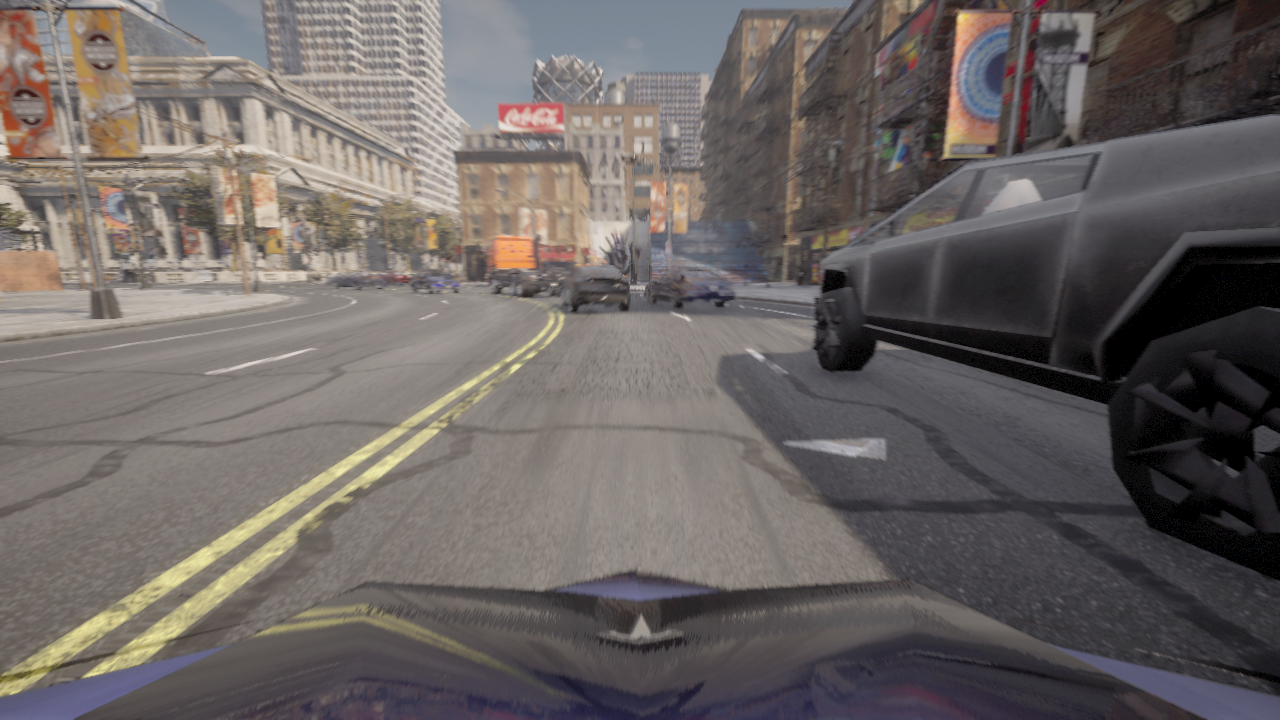cyclist: (808, 113, 1279, 580), (0, 569, 1279, 719), (483, 234, 570, 297), (644, 268, 736, 308), (558, 264, 629, 311), (411, 269, 460, 293), (326, 271, 387, 289), (542, 266, 565, 291), (374, 271, 409, 285), (409, 277, 411, 282), (630, 277, 631, 281)
